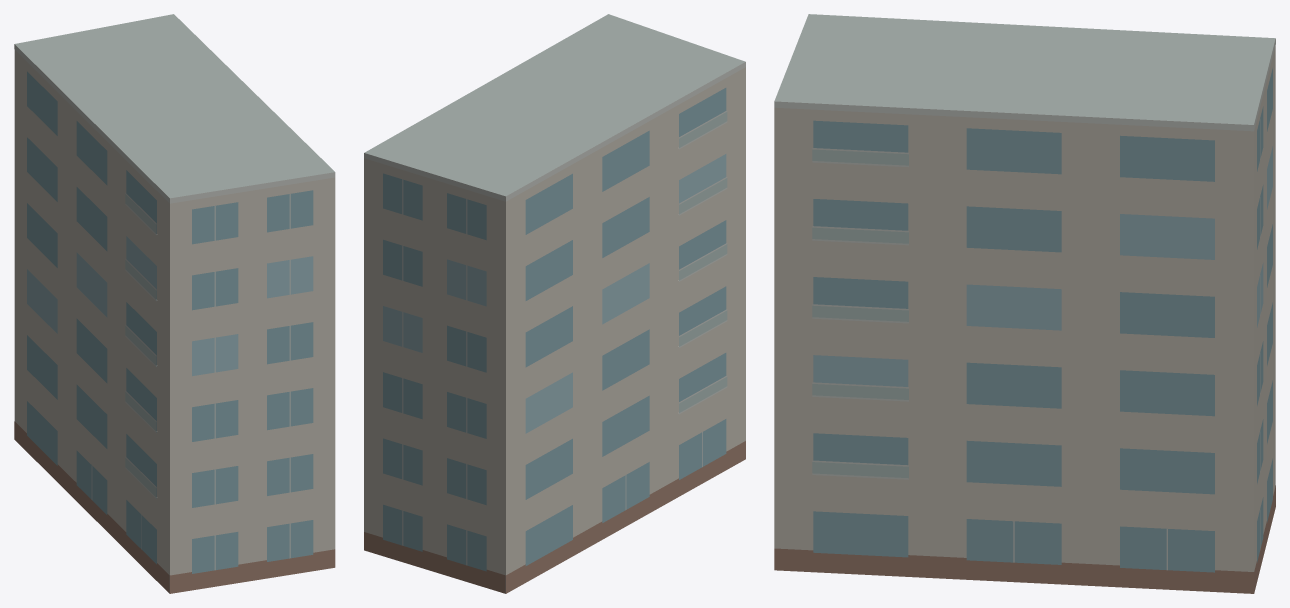
File: survey-upis-32880296.glb
The picture shows the model from 3 angles, left to right: view 1: azimuth 30°, elevation 25°; view 2: azimuth 150°, elevation 25°; view 3: azimuth 270°, elevation 25°; orthographic projection. The views are drawn at different scales.
Parts seen in each view (by area): view 1: survey-upis-32880296.tmp; view 2: survey-upis-32880296.tmp; view 3: survey-upis-32880296.tmp.
Boxes of the visible parts, x1,y1,x2,y2 form: survey-upis-32880296.tmp: [14, 14, 335, 593]; survey-upis-32880296.tmp: [364, 14, 745, 593]; survey-upis-32880296.tmp: [774, 14, 1275, 593].
Size of the model in its own units: 9.31 by 18.3 by 17.75.
